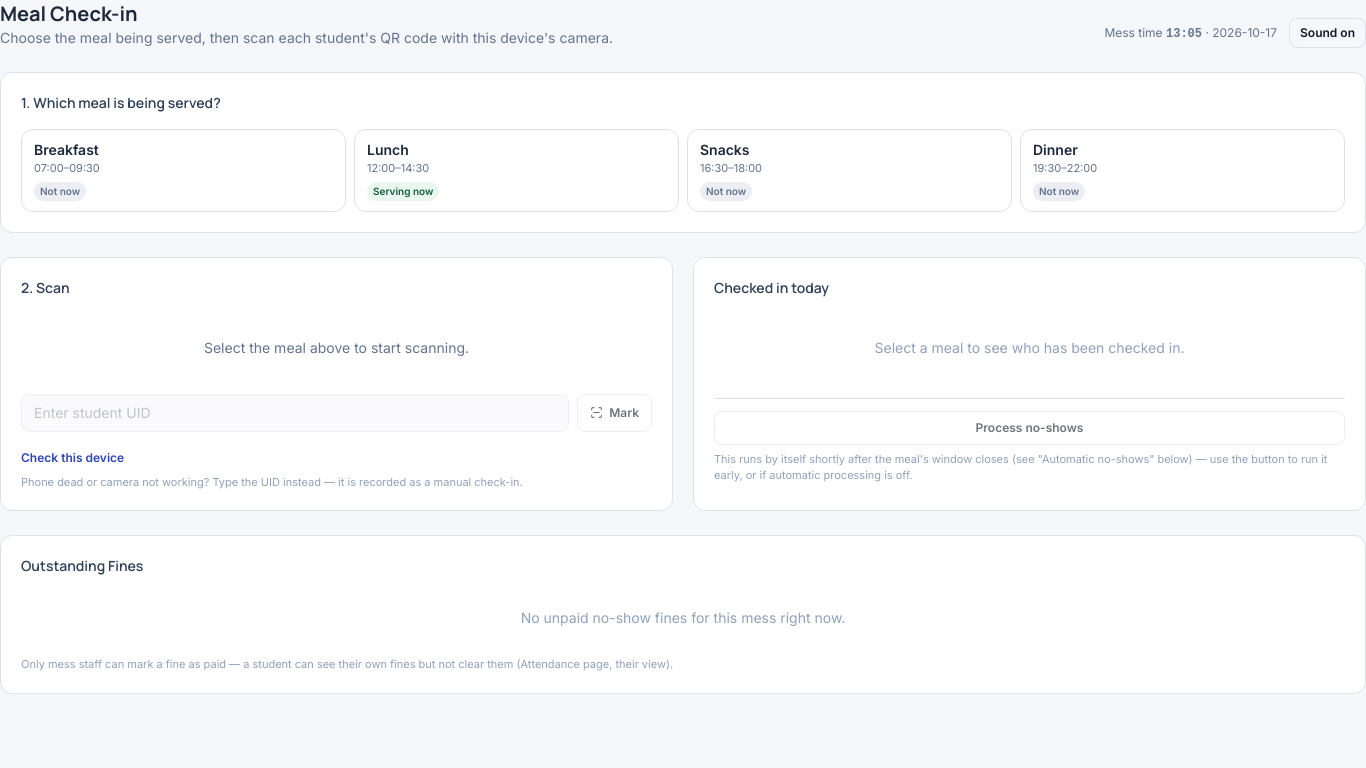
Test: Attendance check-in console — pick the meal first, then the scanner opens only if it is that meal's time › choosing a meal that is NOT being served keeps the camera off and says why, with the timing
The image size is (1366, 768).
expect the element with test id "mess-clock" is shown: met, box [1104,24,1277,42]
Step 1. Click the button "Dinner 19:30–22:00 Not now" → (1055, 150), box [1020,129,1345,212]
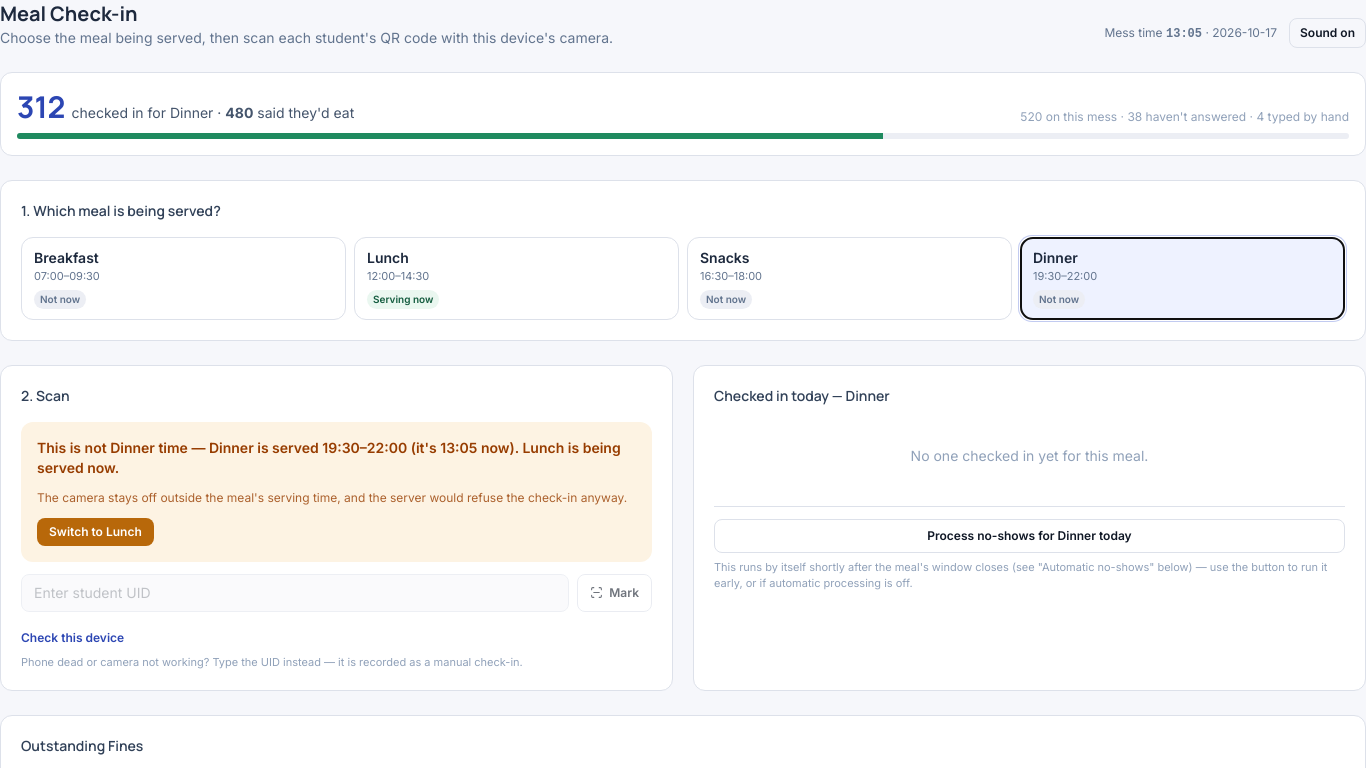
expect the field with placeholder "Enter student UID" is disabled: met, box [21,574,569,612]
expect the message with test id "not-meal-time" shows "This is not Dinner time — Dinner is served 19:30–22:00 (it's 13:05 now)": met, box [37,438,621,476]
expect the message with test id "not-meal-time" shows "lunch is being served now": met, box [37,438,621,476]
